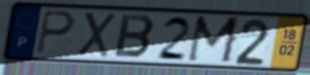2: (154, 15, 195, 62), (235, 16, 272, 68)
B: (112, 12, 157, 60)
M: (185, 15, 244, 66)
P: (35, 9, 77, 57)
X: (75, 10, 117, 59)
